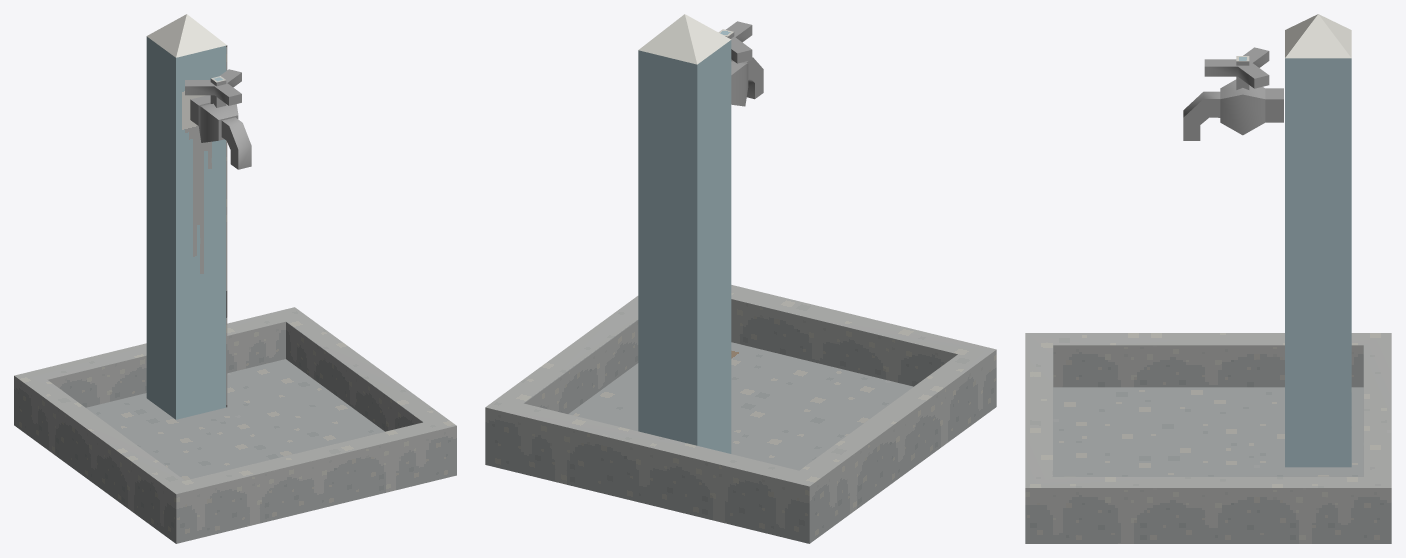
Rendered from 014d_Water_Tap.glb.
The picture shows the model from 3 angles, left to right: view 1: azimuth 30°, elevation 25°; view 2: azimuth 150°, elevation 25°; view 3: azimuth 270°, elevation 25°; orthographic projection. The views are drawn at different scales.
Visible parts, largest first — view 1: part_0; view 2: part_0; view 3: part_0.
Boxes of the visible parts, box(x1,y1,x2,y2) form: part_0: box(14, 14, 456, 543); part_0: box(485, 14, 996, 543); part_0: box(1025, 14, 1391, 543).
Size of the model in its own units: 0.75 by 1.02 by 0.75.
1 material, 1 textured.
